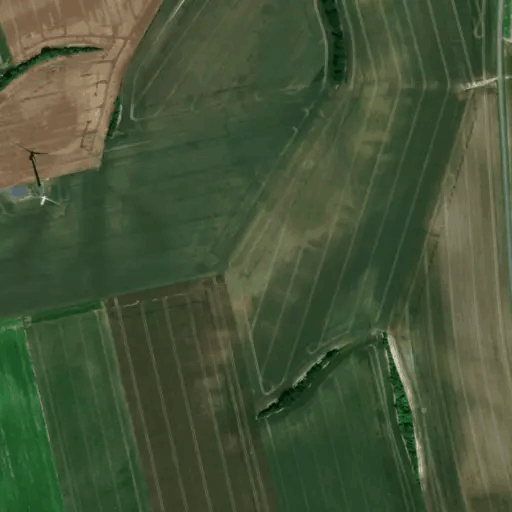wt: (13, 140, 65, 212)
